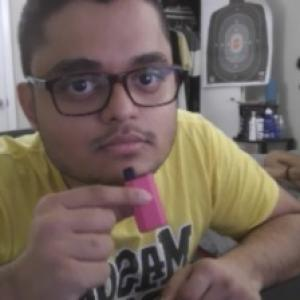Blume-E-Ciggirate: (122, 166, 170, 234)
